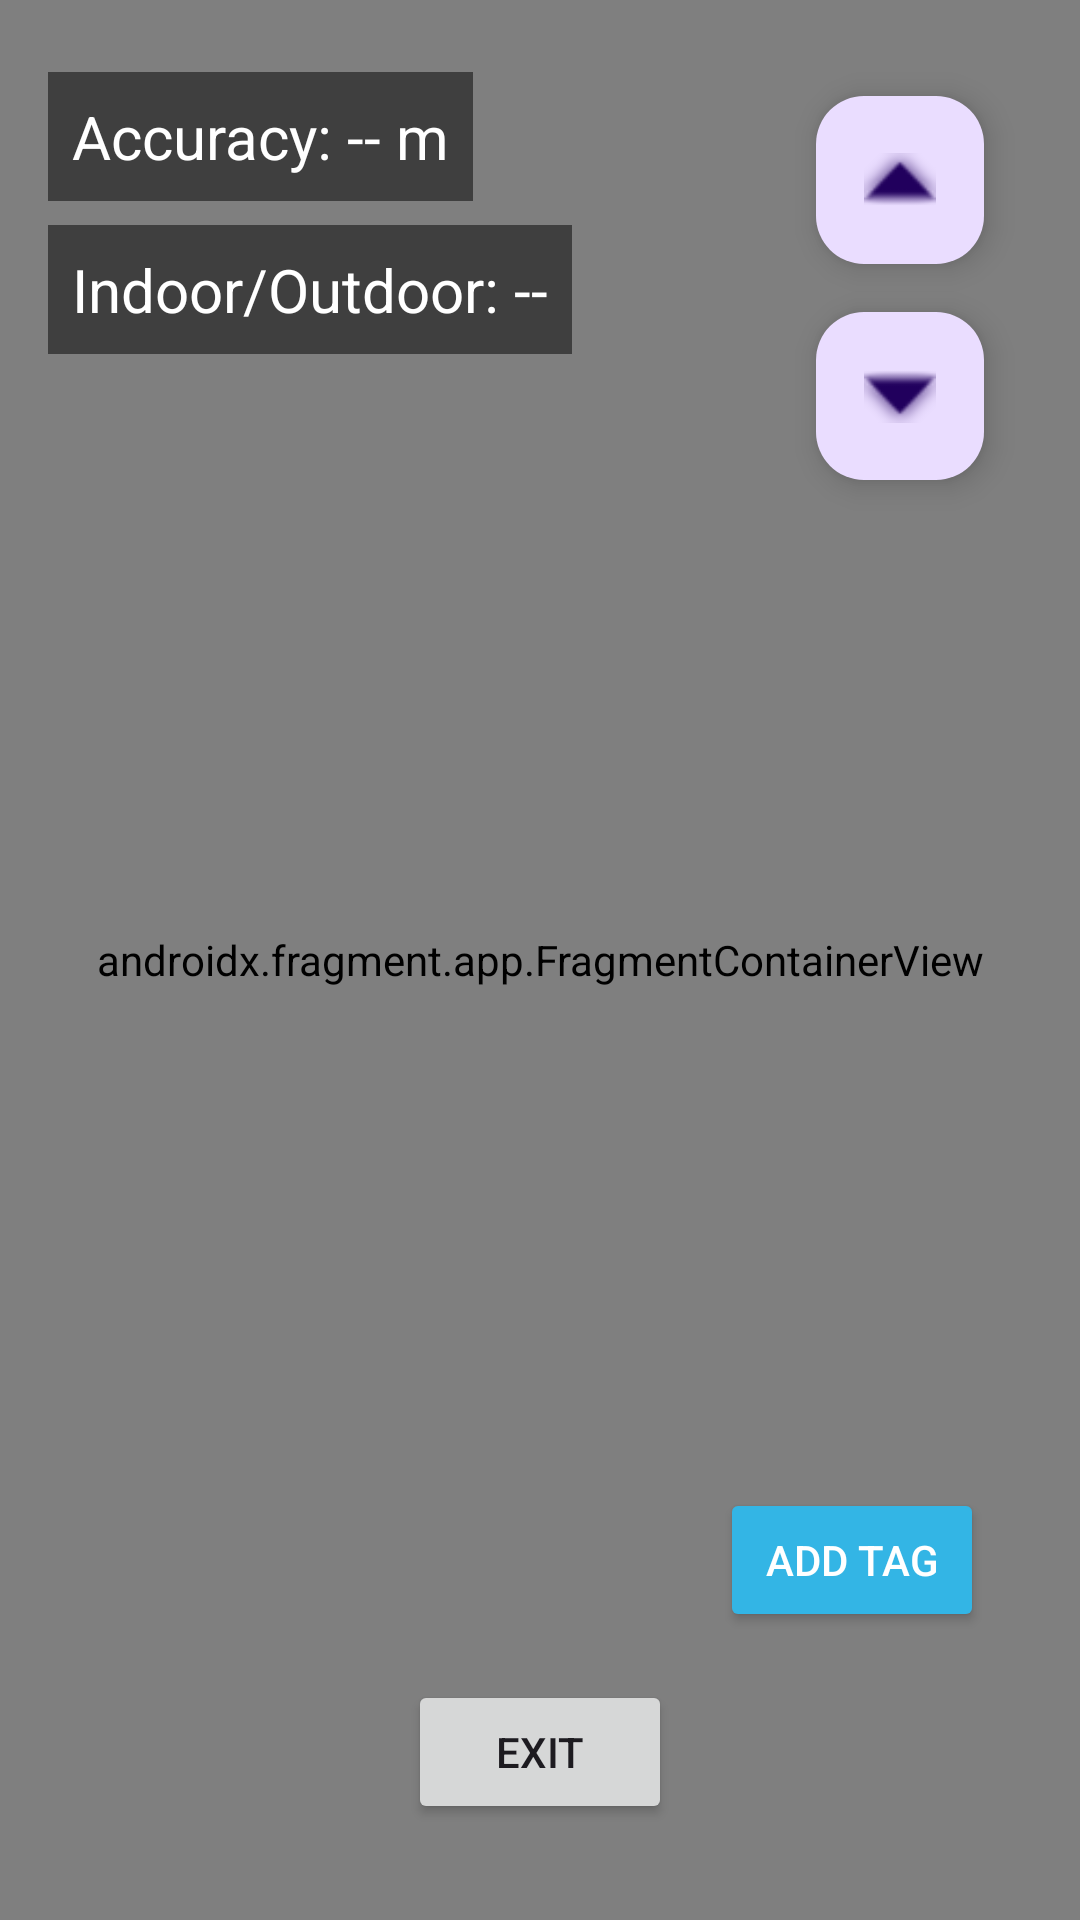

Icon click points for this 1080 x 1920 phone screenshot, format (x=x, y=y):
arrow down float: (x=900, y=396)
arrow up float: (x=900, y=180)
